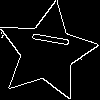I: (22, 27, 70, 50)
